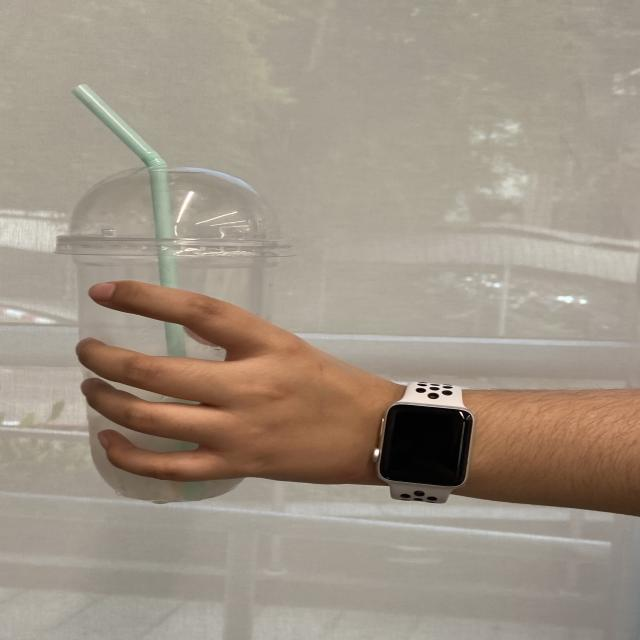cup: (54, 164, 299, 503)
